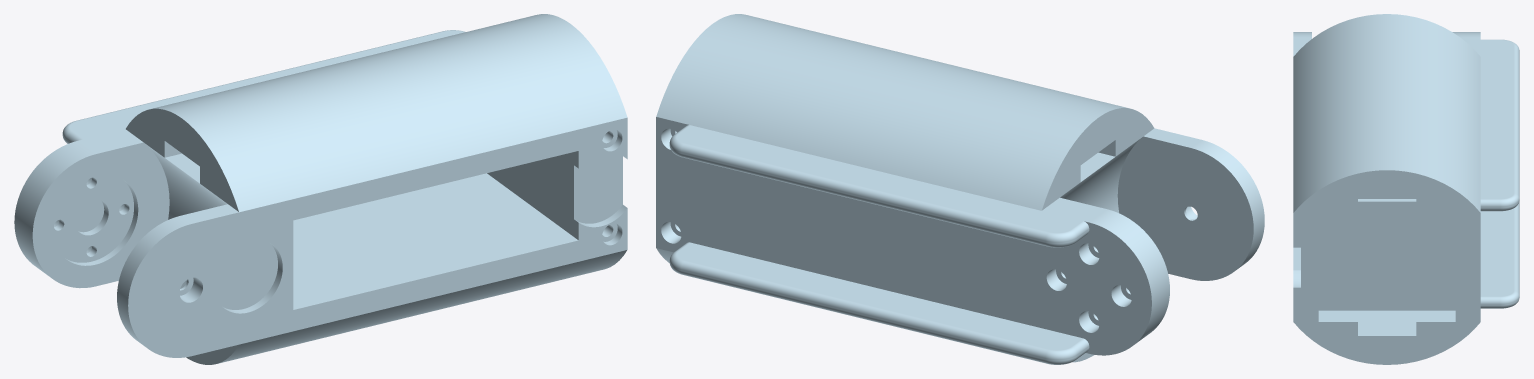
3 views of the same model, side by side, from view 1: azimuth 30°, elevation 25°; view 2: azimuth 150°, elevation 25°; view 3: azimuth 270°, elevation 25° (orthographic). The views are drawn at different scales.
Parts seen in each view (by area): view 1: SnakeBody; view 2: SnakeBody; view 3: SnakeBody.
Part boxes in pixels (x1,y1,x2,y2): SnakeBody: (14, 14, 627, 364); SnakeBody: (656, 14, 1264, 364); SnakeBody: (1293, 14, 1519, 364).
Size of the model in its own units: 0.1225 by 0.0554 by 0.0583.
